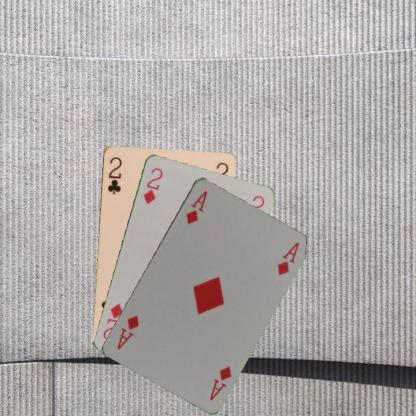2c: (105, 154, 123, 196)
2d: (140, 165, 164, 205)
Ad: (207, 363, 233, 401), (183, 188, 209, 225)
